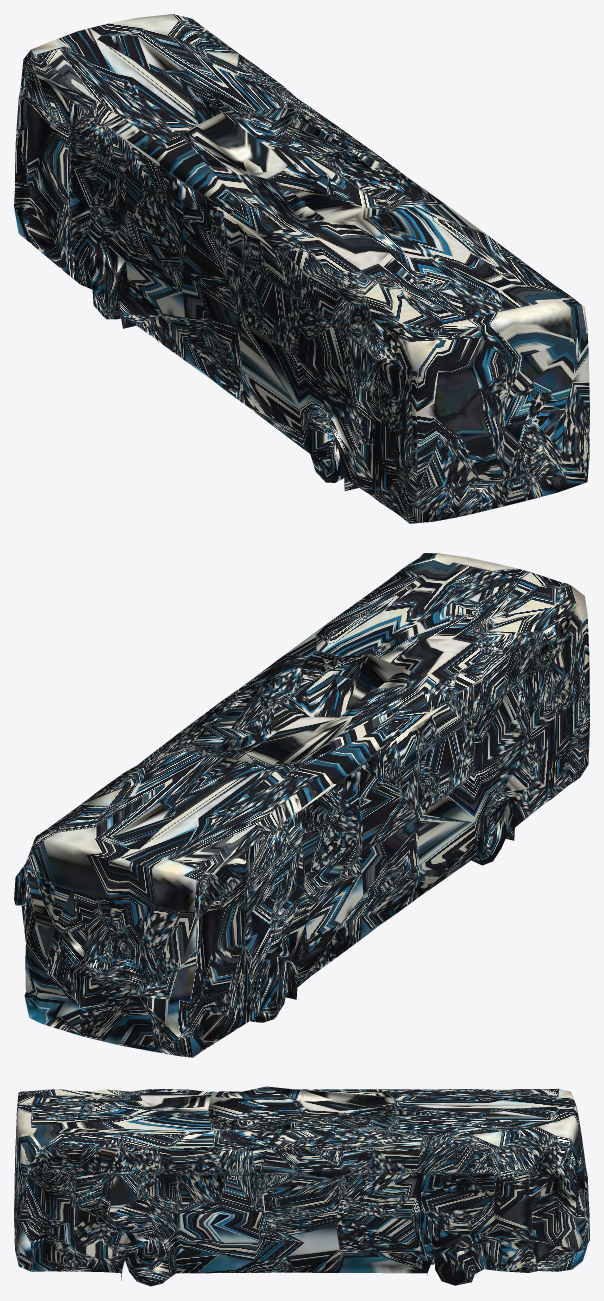
Rendered from bus.far.glb.
The picture shows the model from 3 angles, top to bottom: view 1: azimuth 30°, elevation 25°; view 2: azimuth 150°, elevation 25°; view 3: azimuth 270°, elevation 25°; orthographic projection. The views are drawn at different scales.
Size of the model in its own units: 0.4762 by 0.5774 by 1.9.
Materials: 1 (1 with a texture image).
